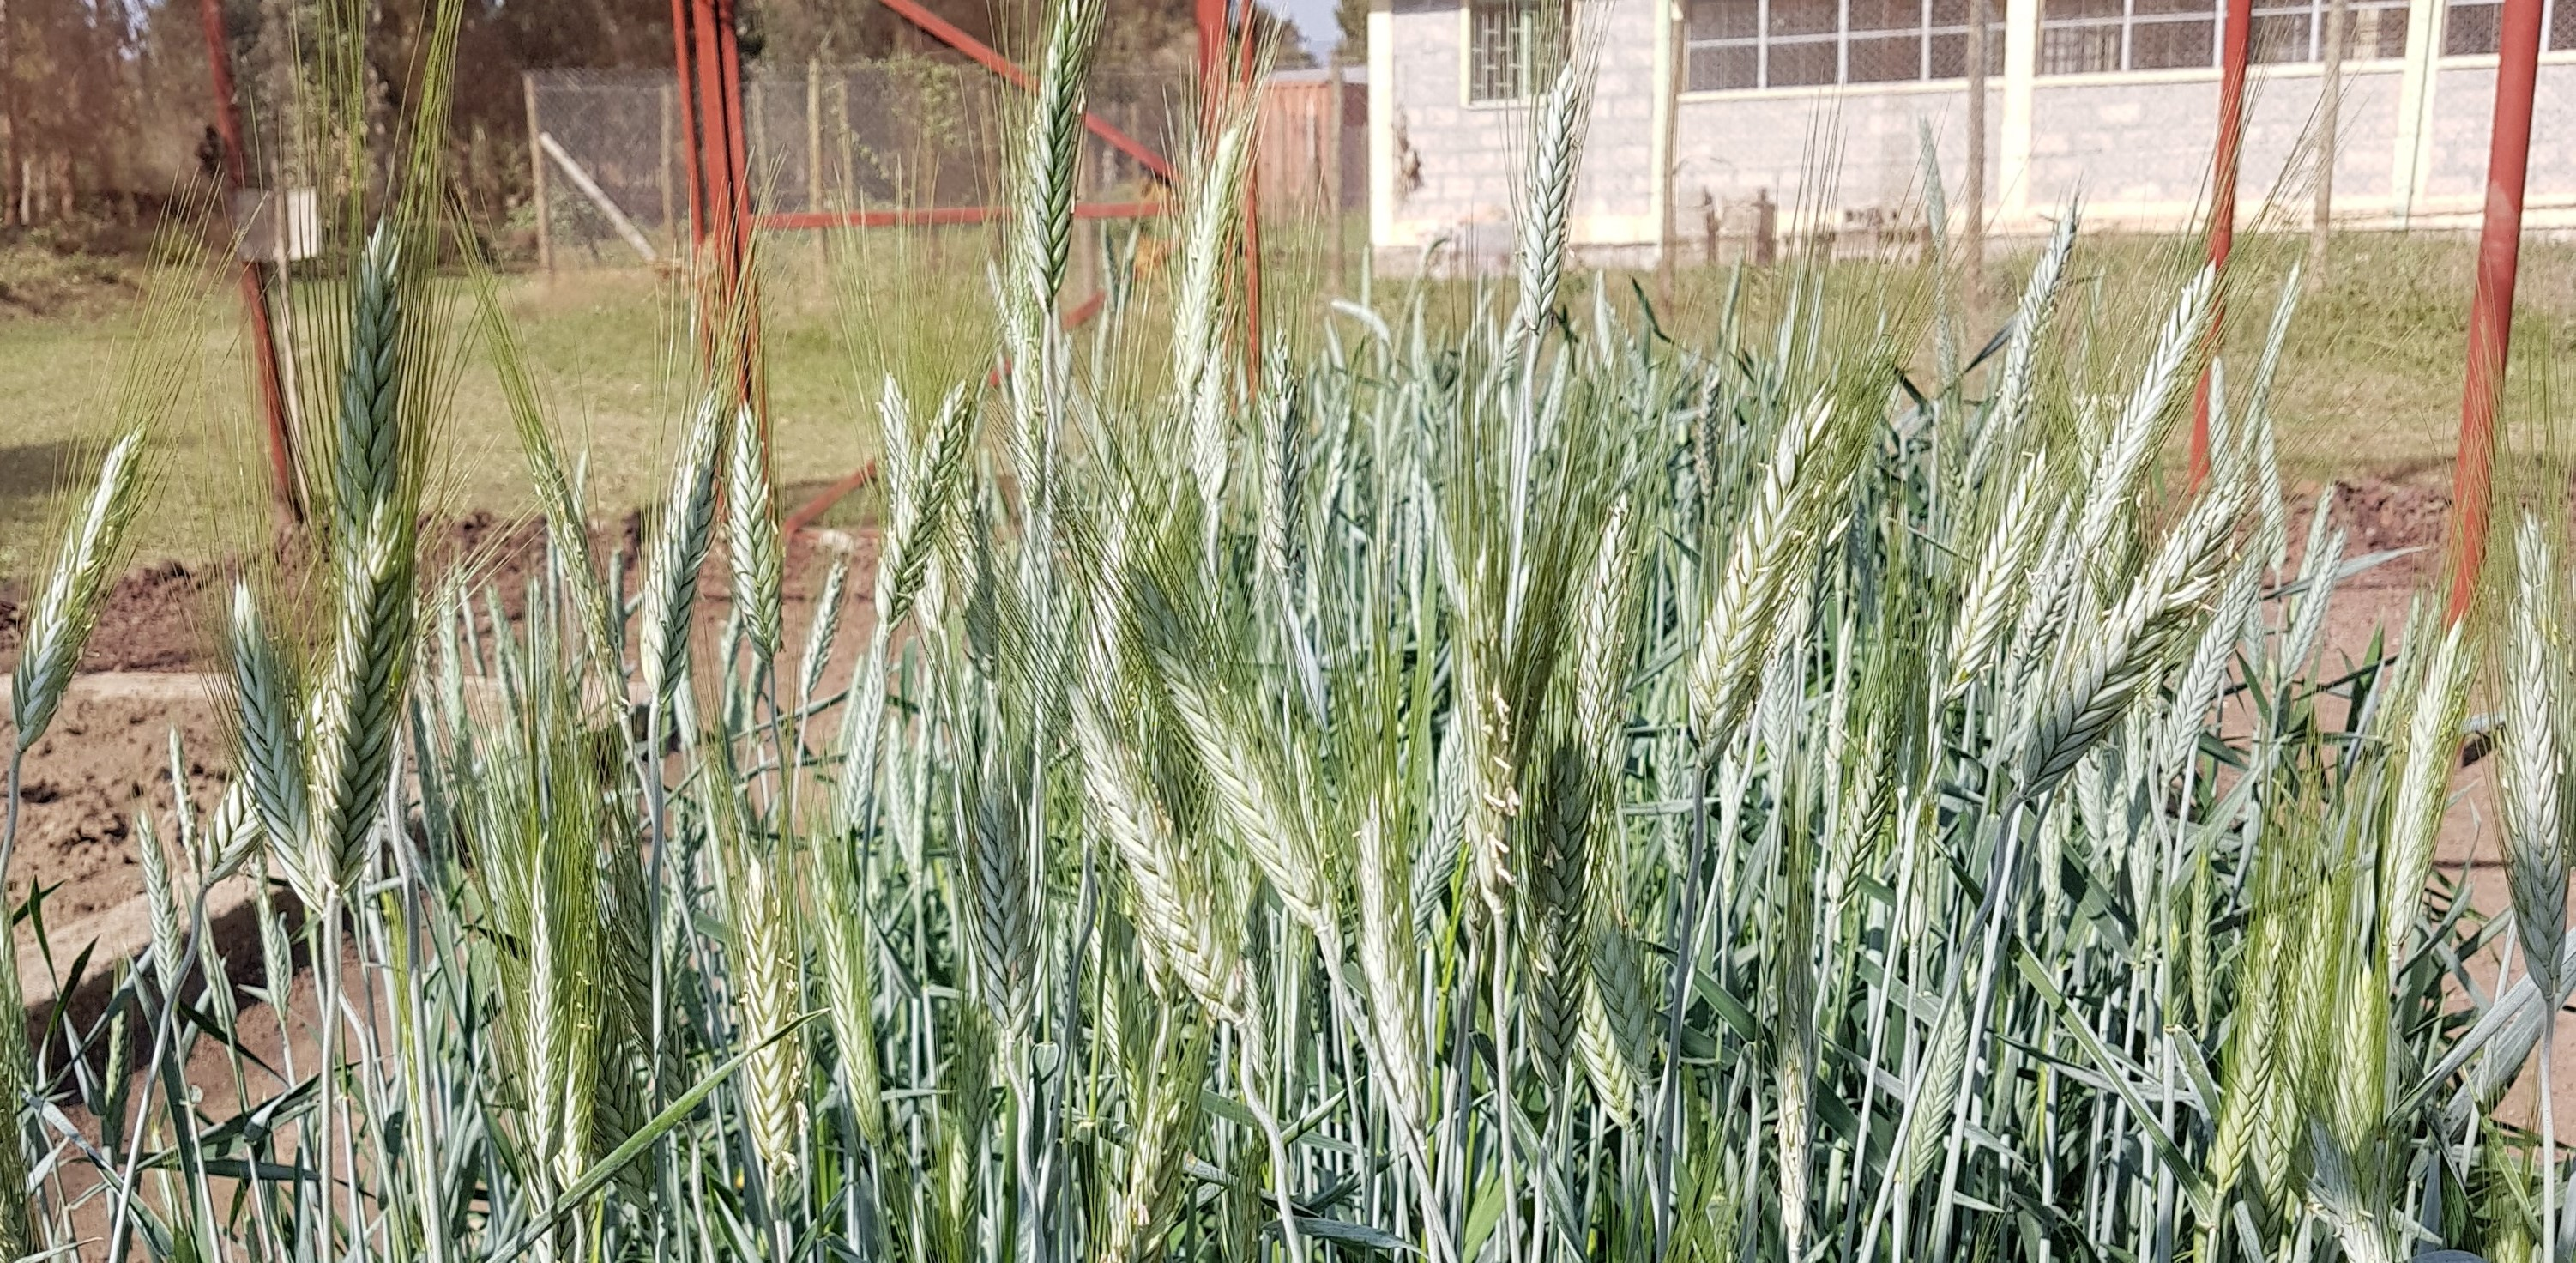Healthy Wheat: (274, 207, 442, 892), (2006, 475, 2277, 818), (1671, 374, 1874, 728), (631, 366, 820, 710), (2466, 485, 2576, 979), (920, 747, 1073, 1082), (703, 839, 826, 1166), (1498, 41, 1613, 335)
